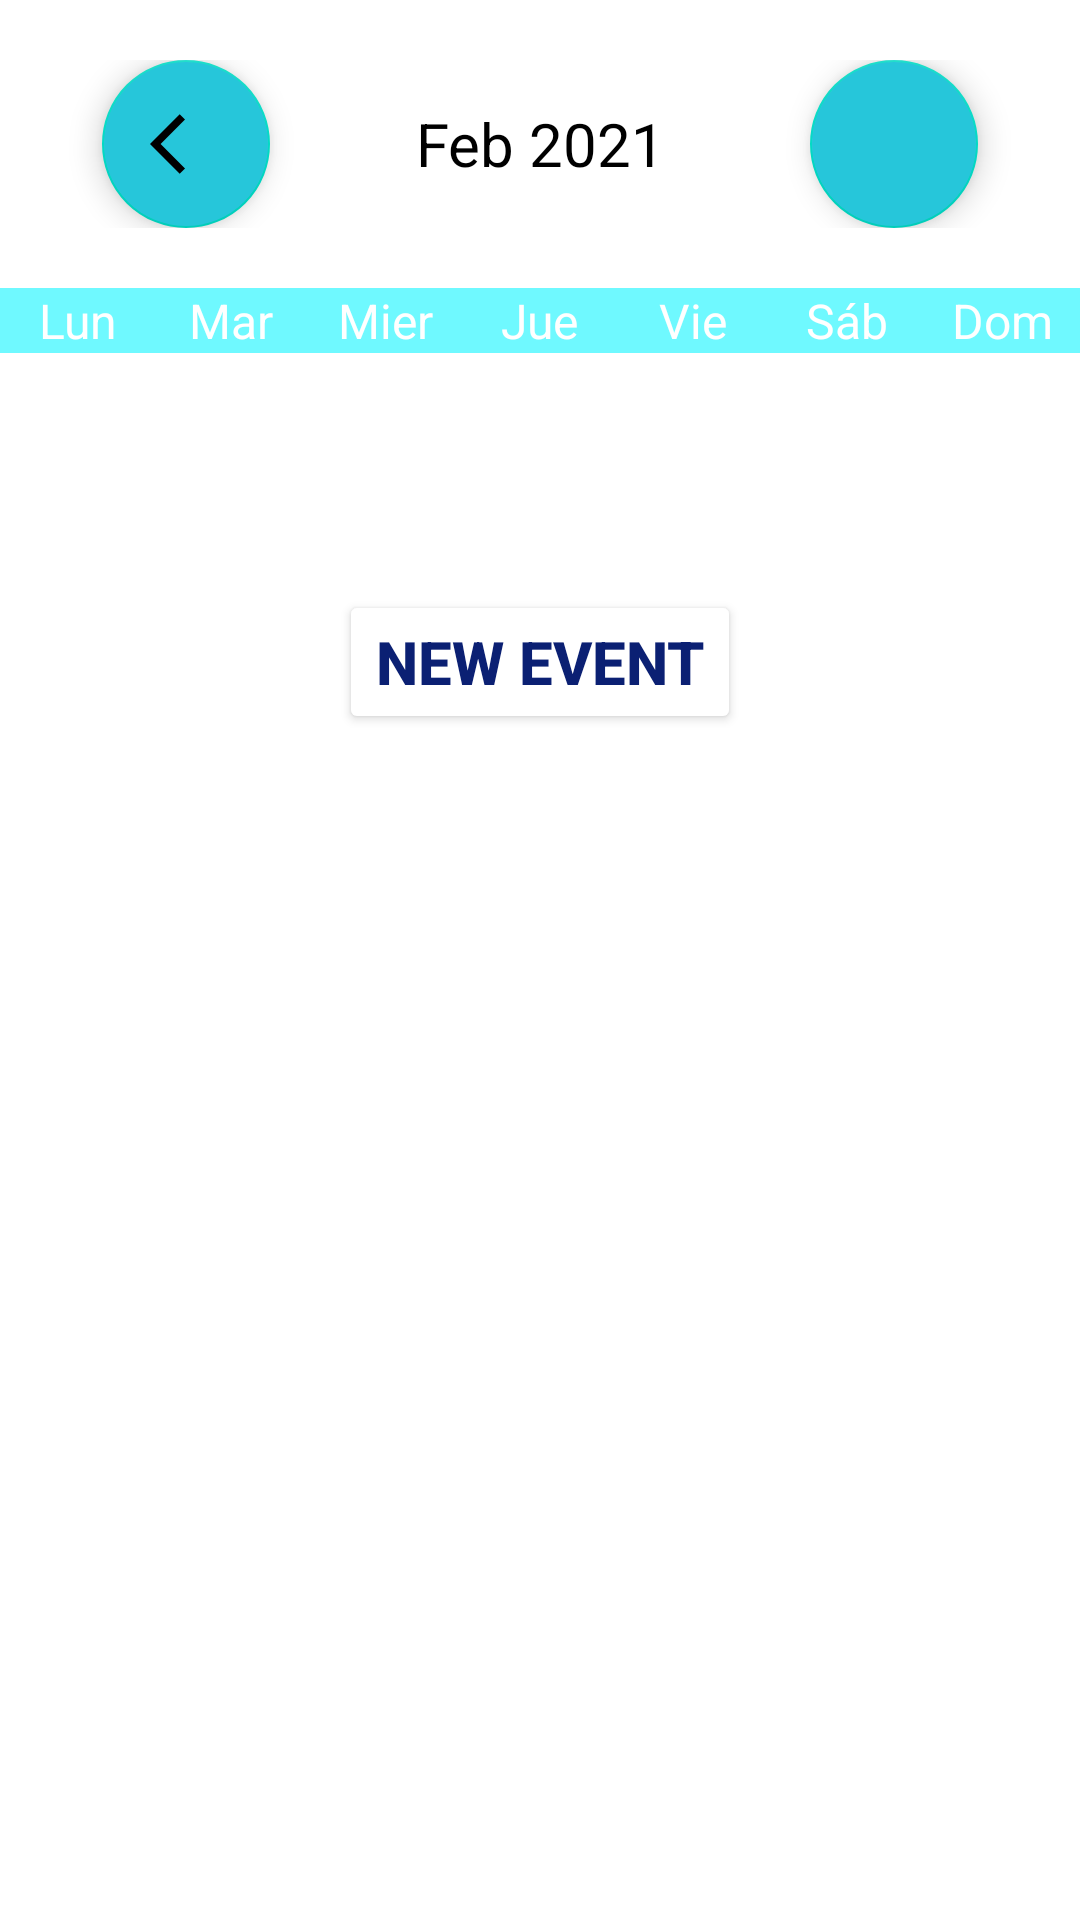

Icons on this 1080px×1920px Android screen, each with its box as box(x1, y1, x2, y2):
back: box(102, 60, 270, 228)
